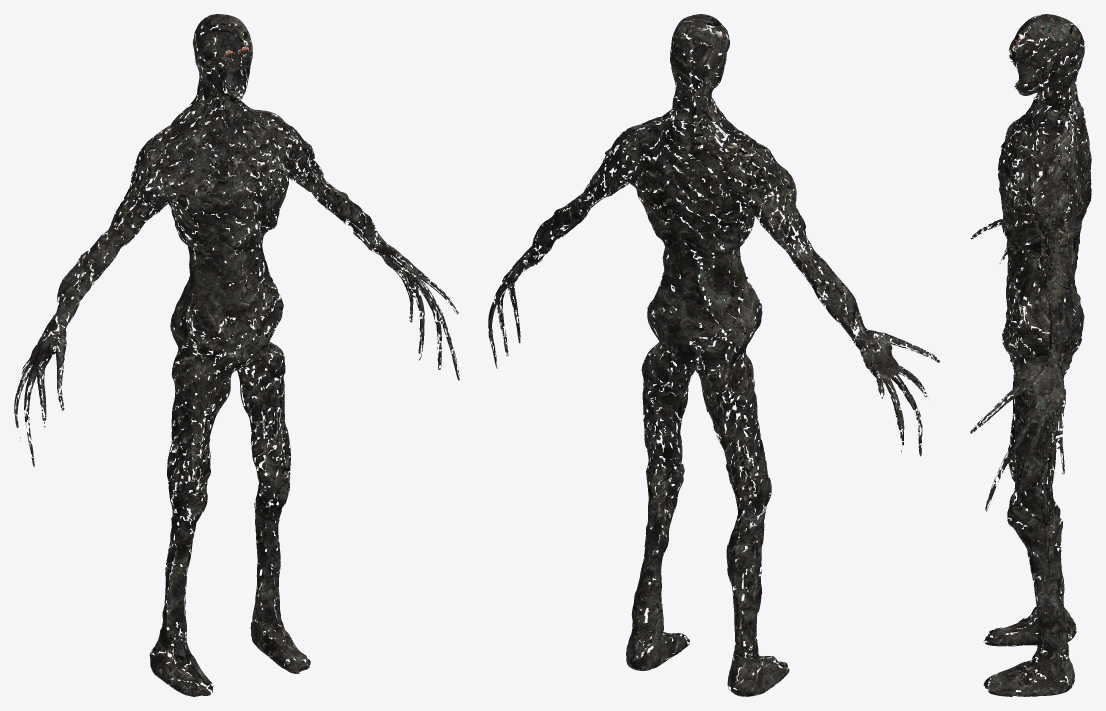
File: basic.glb
The picture shows the model from 3 angles, left to right: view 1: azimuth 30°, elevation 25°; view 2: azimuth 150°, elevation 25°; view 3: azimuth 270°, elevation 25°; orthographic projection. The views are drawn at different scales.
Parts seen in each view (by area): view 1: monsterforgame.002; view 2: monsterforgame.002; view 3: monsterforgame.002.
Boxes of the visible parts, x1=… form: monsterforgame.002: x1=14, y1=14, x2=459, y2=696; monsterforgame.002: x1=488, y1=14, x2=939, y2=696; monsterforgame.002: x1=970, y1=14, x2=1091, y2=696.
Size of the model in its own units: 3.71 by 5.53 by 0.9416.
3 materials, 2 textured.
